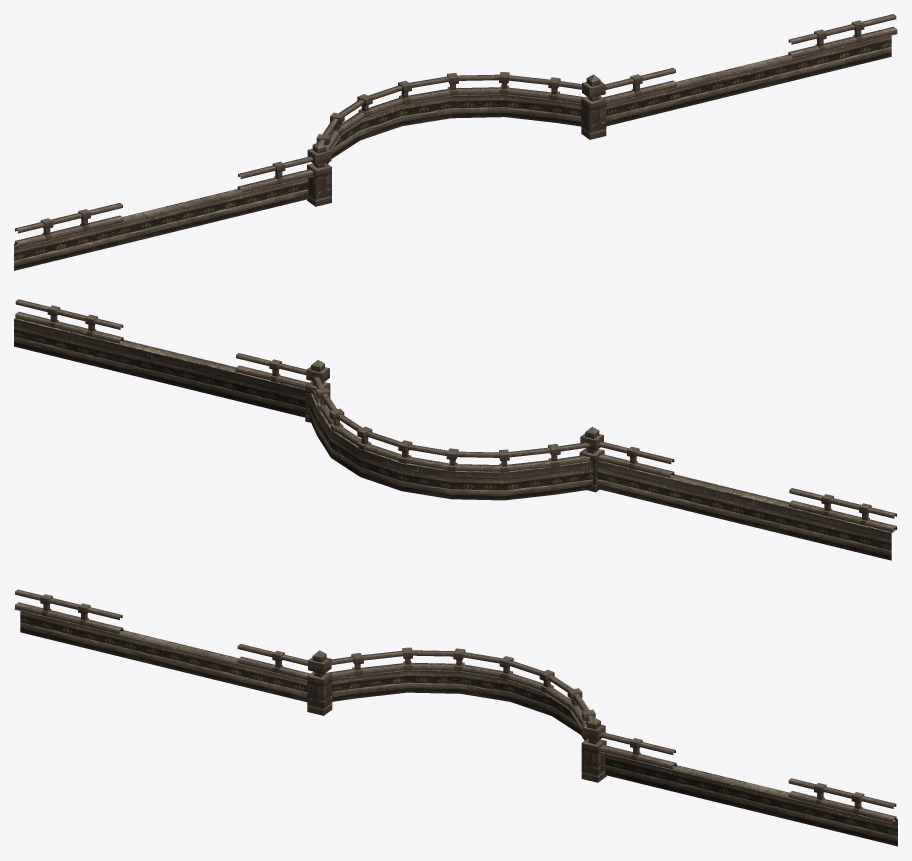
File: arch_wall_top.FBX
The picture shows the model from 3 angles, top to bottom: view 1: azimuth 30°, elevation 25°; view 2: azimuth 150°, elevation 25°; view 3: azimuth 330°, elevation 25°; orthographic projection.
Visible parts, largest first — view 1: arch_wall_top; view 2: arch_wall_top; view 3: arch_wall_top.
Boxes of the visible parts, x1,y1,x2,y2 form: arch_wall_top: (14, 14, 897, 270); arch_wall_top: (14, 299, 897, 560); arch_wall_top: (14, 589, 897, 846).
Bounding box in the file's own units: 43.21 × 2.84 × 4.98.
